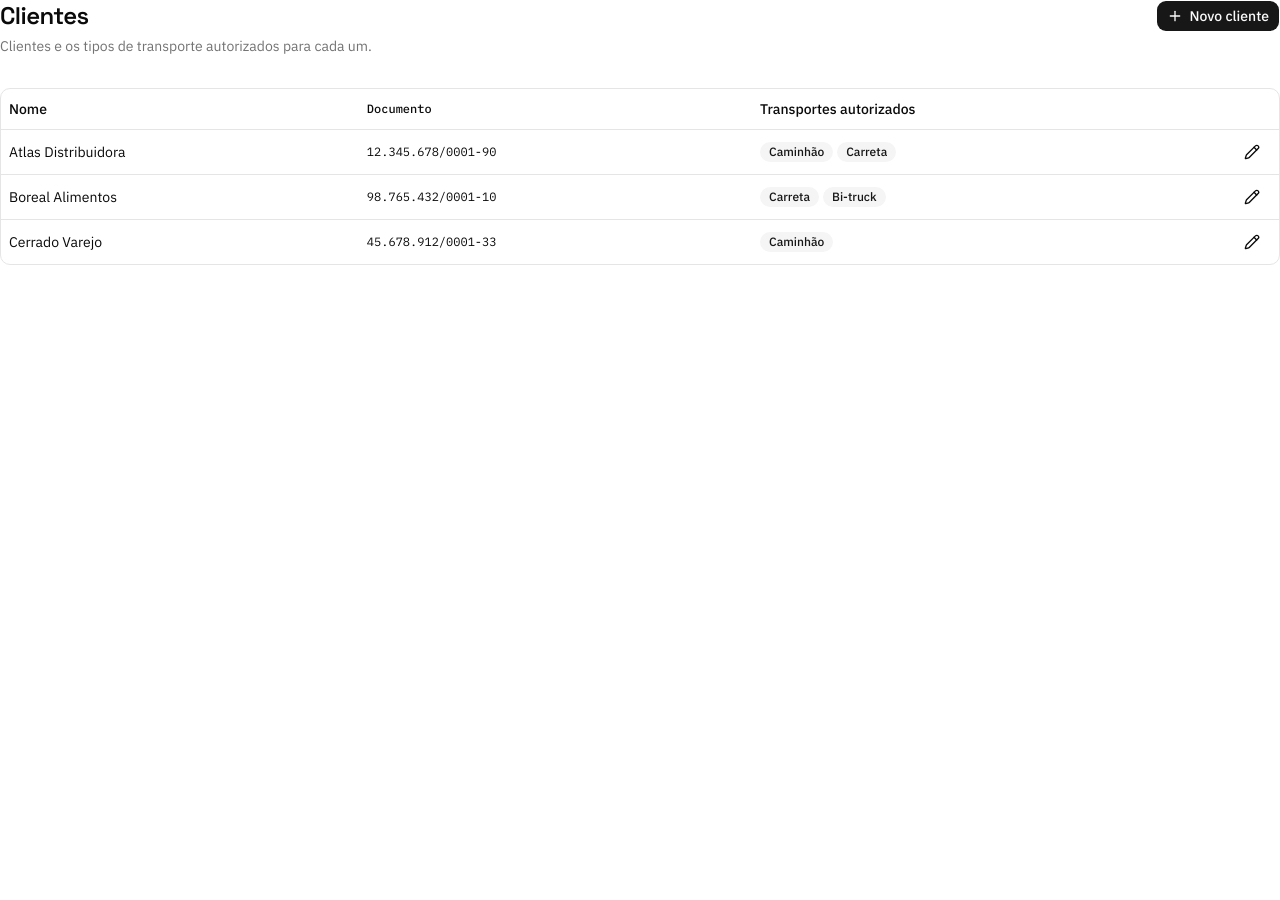
ClientsView (integração) › mostra erro e mantém o diálogo aberto quando o salvamento falha
The image size is (1280, 900).
Check: the text "Atlas Distribuidora" is shown, box [1,129,359,174]
Click the button "Novo cliente". click: coordinates (1218, 16)
box: [1156,0,1279,32]
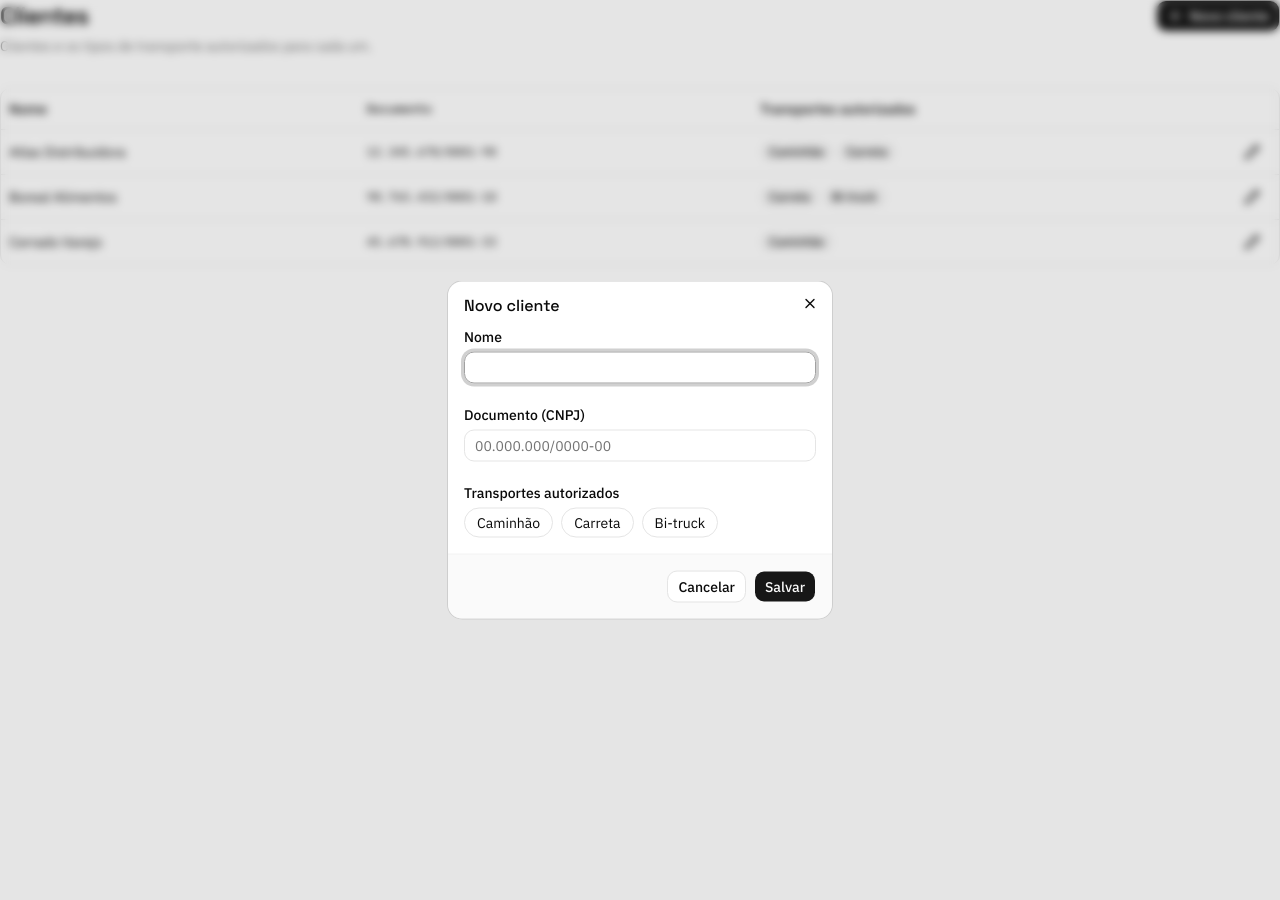
Type "Épsilon" into the field labelled "Nome". click: coordinates (640, 368)
box: [464,352,816,384]
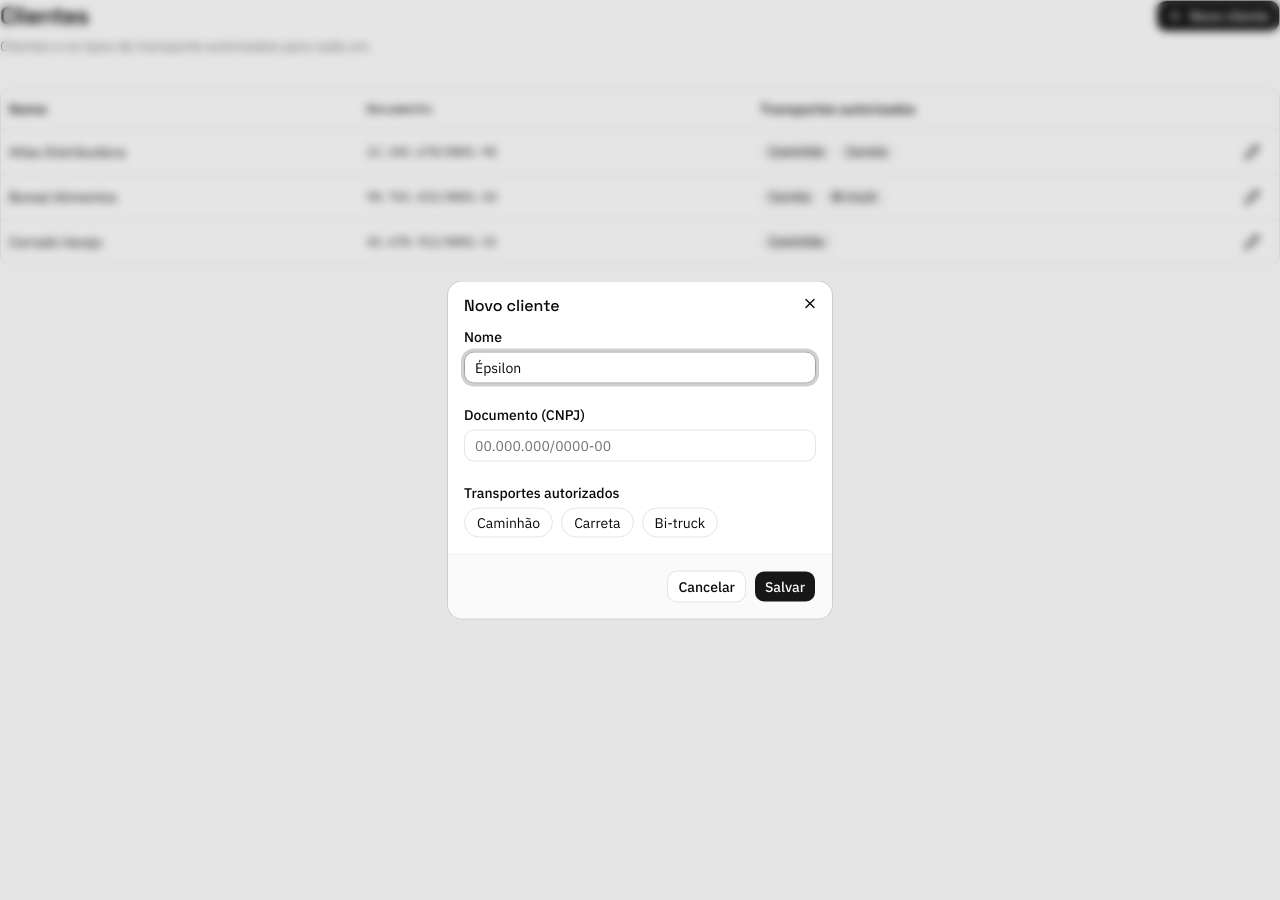
Type "11222333000181" into the field labelled "Documento (CNPJ)". click: coordinates (640, 446)
box: [464,430,816,462]
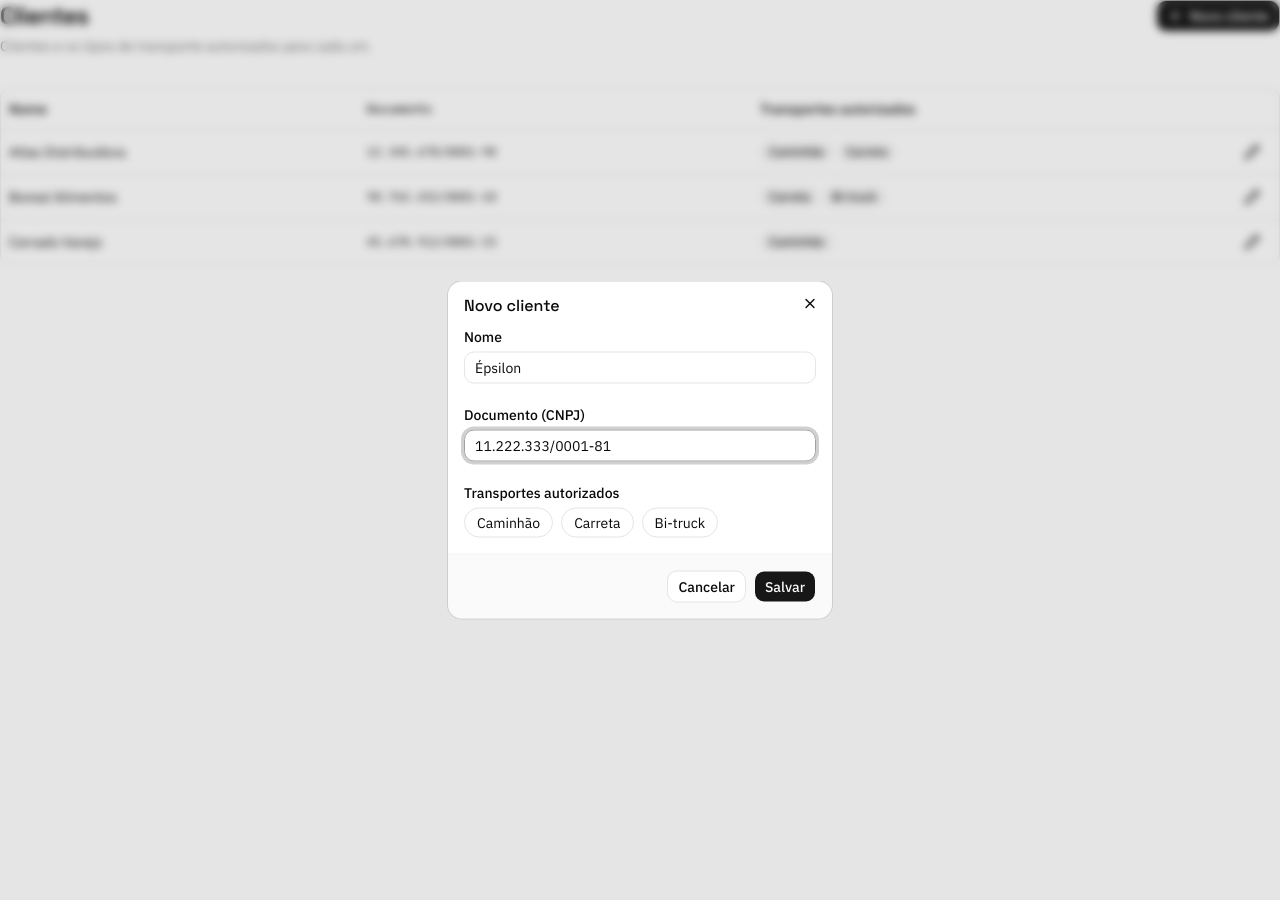
Click the button "Caminhão". click: coordinates (509, 522)
box: [464,508,553,538]
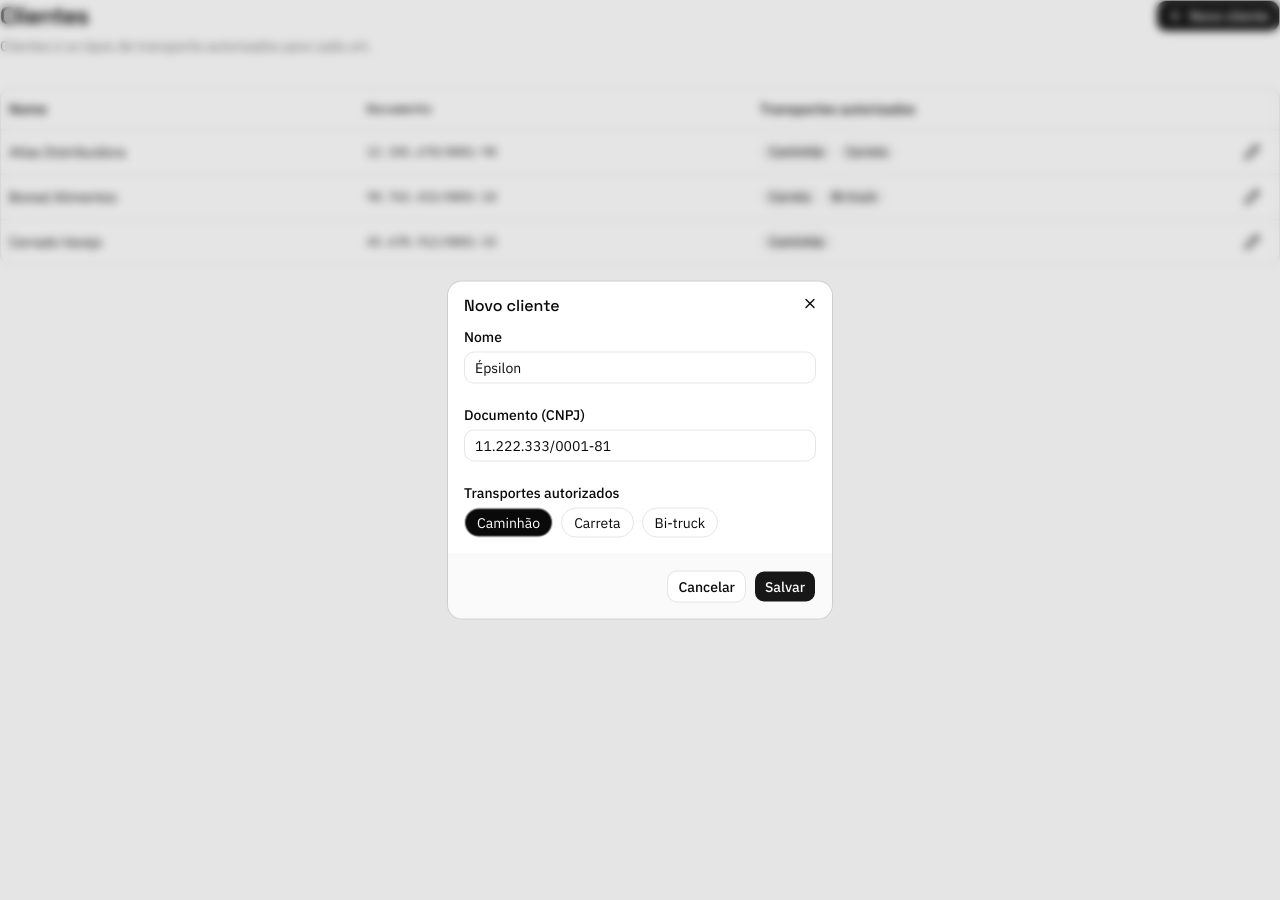
Click the button "Salvar". click: coordinates (785, 586)
box: [754,570,816,602]
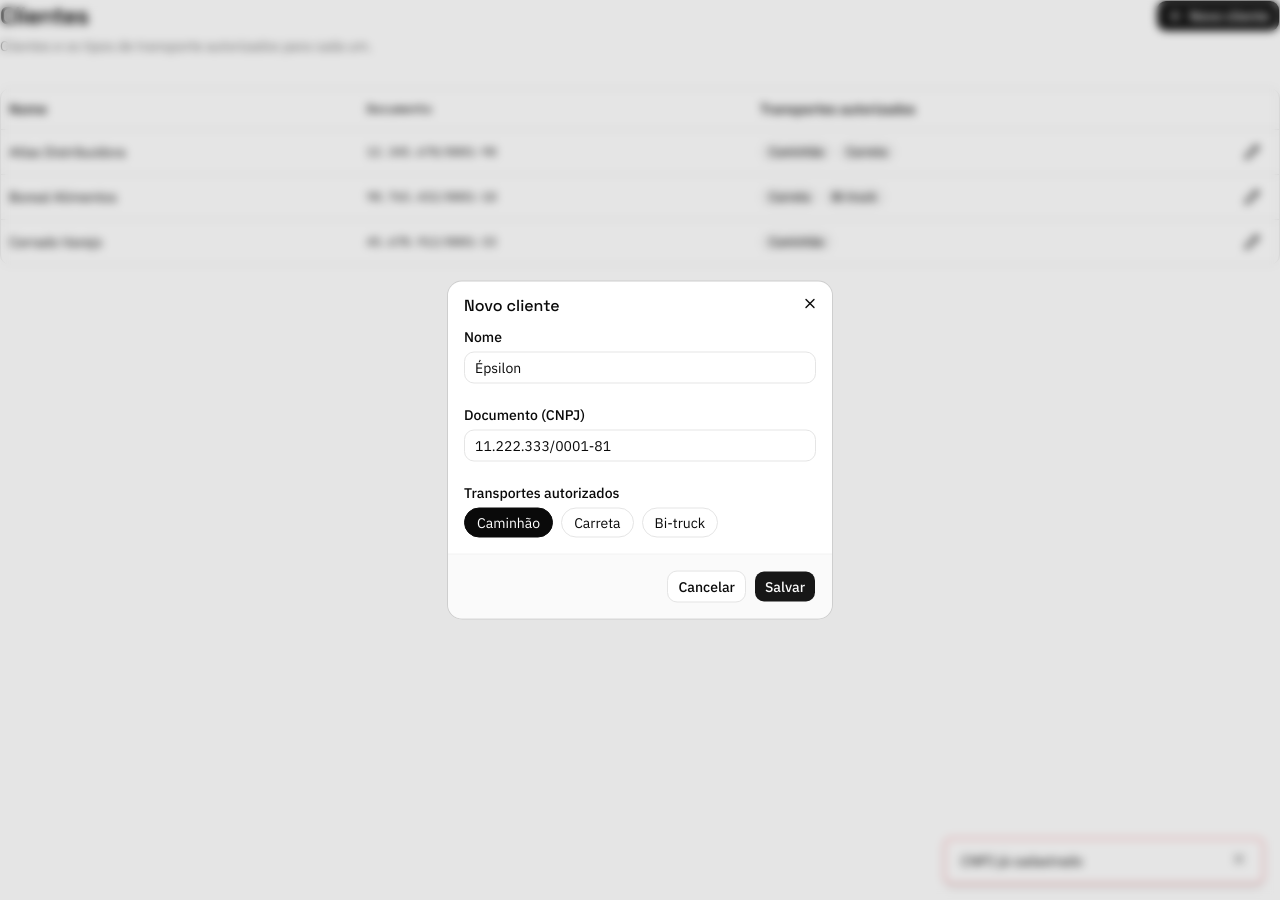
Check: the dialog is shown, box [448,282,832,618]
Check: the text "CNPJ já cadastrado" is shown, box [961,852,1082,870]
